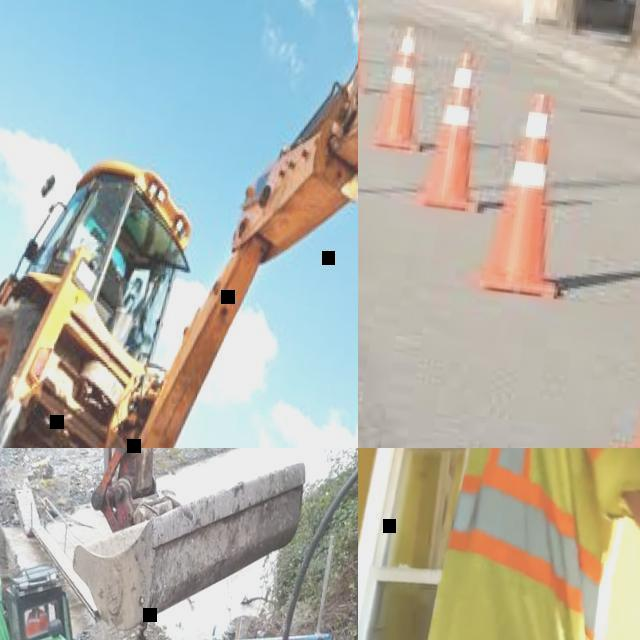machinery: (0, 0, 358, 448), (6, 448, 358, 640), (0, 448, 120, 640)
person: (396, 448, 640, 640), (24, 605, 48, 638)
safety_cone: (472, 88, 591, 298), (416, 48, 492, 215), (366, 15, 434, 152), (358, 0, 375, 100)
vest: (400, 448, 640, 640), (26, 608, 46, 636)
